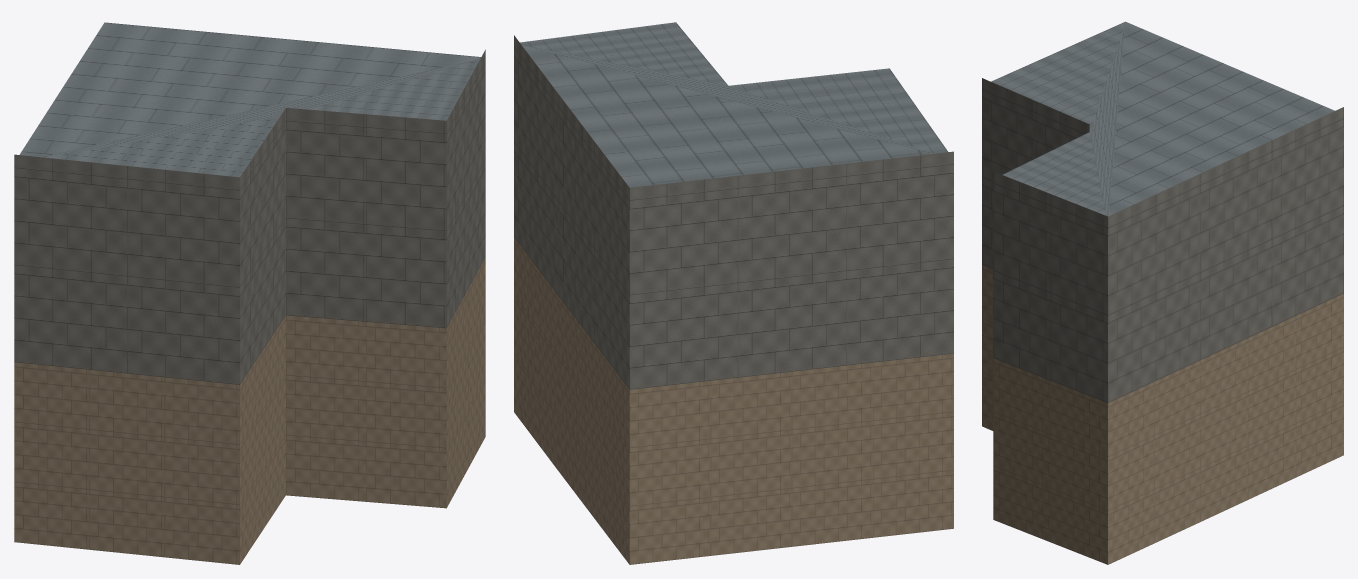
Rendered from bld_c13_47_507.gltf.
3 renders of one model, left to right at view 1: azimuth 30°, elevation 25°; view 2: azimuth 150°, elevation 25°; view 3: azimuth 270°, elevation 25°, orthographic. The views are drawn at different scales.
Visible parts, largest first — view 1: bld_c13_47_507; view 2: bld_c13_47_507; view 3: bld_c13_47_507.
Part boxes in pixels (left/top/right/bottom): bld_c13_47_507: left=14, top=22, right=485, bottom=564; bld_c13_47_507: left=514, top=22, right=953, bottom=564; bld_c13_47_507: left=982, top=21, right=1343, bottom=564.
Bounding box in the file's own units: 13.69 × 10.98 × 10.33.
4 materials, 4 textured.
